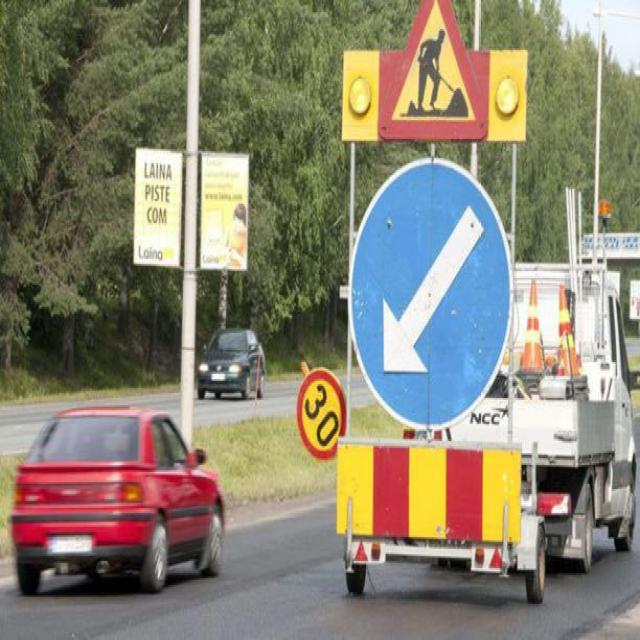light_vehicle: (6, 388, 256, 606), (194, 312, 277, 410)
